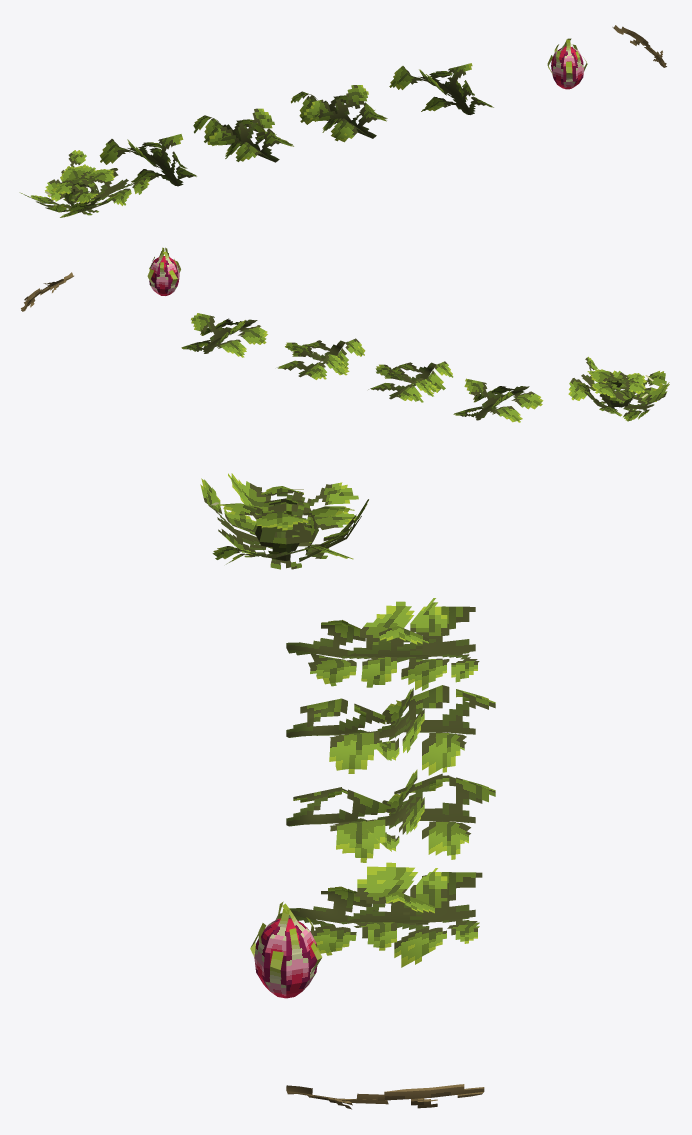
File: sample_plant.fbx
The picture shows the model from 3 angles, top to bottom: view 1: azimuth 30°, elevation 25°; view 2: azimuth 150°, elevation 25°; view 3: azimuth 270°, elevation 25°; orthographic projection. The views are drawn at different scales.
Visible parts, largest first — view 1: sample_plant_root, sample_branch_004, sample_branch.002, sample_branch.001, sample_branch_003, sample_fruit, sample_branch_alt; view 2: sample_plant_root, sample_branch_003, sample_branch.002, sample_branch_004, sample_branch.001, sample_fruit, sample_branch_alt; view 3: sample_branch_003, sample_branch.001, sample_branch.002, sample_plant_root, sample_branch_004, sample_fruit, sample_branch_alt.
Part boxes in pixels (box(x1,y1,x2,y2)): sample_plant_root: box(19, 150, 149, 217); sample_branch_004: box(291, 85, 387, 142); sample_branch.002: box(193, 108, 293, 162); sample_branch.001: box(99, 134, 196, 186); sample_branch_003: box(389, 63, 493, 114); sample_fruit: box(547, 38, 587, 89); sample_branch_alt: box(612, 25, 666, 67); sample_plant_root: box(568, 356, 669, 421); sample_branch_003: box(181, 313, 267, 357); sample_branch.002: box(368, 361, 453, 402); sample_branch_004: box(277, 338, 365, 379); sample_branch.001: box(453, 378, 543, 422); sample_fruit: box(147, 247, 180, 295); sample_branch_alt: box(21, 272, 73, 311); sample_branch_003: box(290, 862, 482, 967); sample_branch.001: box(286, 598, 479, 690); sample_branch.002: box(286, 685, 495, 775); sample_plant_root: box(200, 473, 368, 569); sample_branch_004: box(286, 769, 495, 862); sample_fruit: box(250, 901, 322, 998); sample_branch_alt: box(286, 1084, 484, 1109).
Size of the model in its own units: 6.72 by 0.7271 by 1.43.
